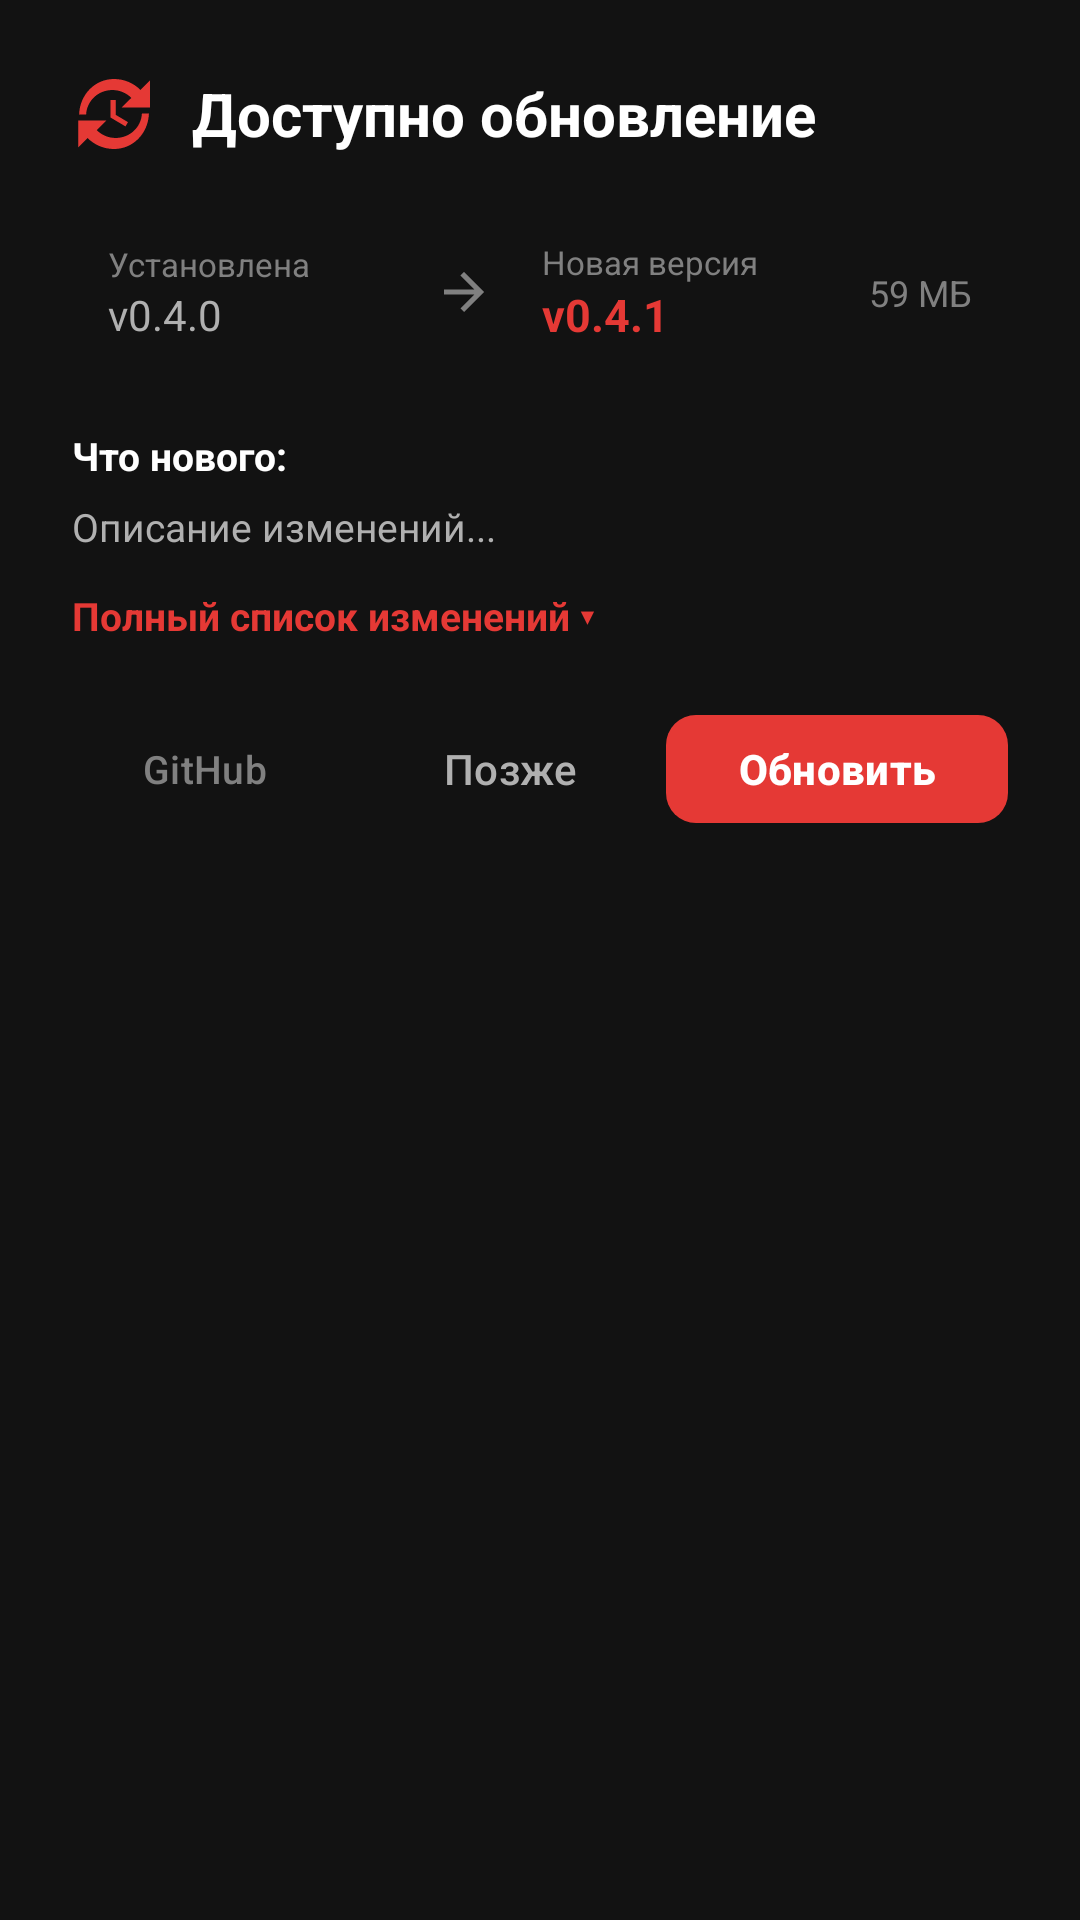

Where icons sit on this 1080 × 1920 app screen, as {"x1": x1, "y1": y1, "x2": x2, "y2": y2}:
arrow forward: {"x1": 444, "y1": 272, "x2": 484, "y2": 312}
